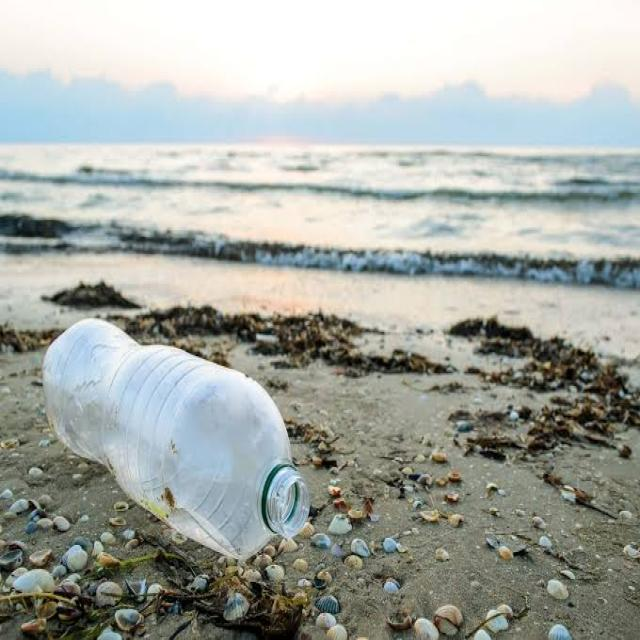plastic: (40, 293, 380, 640)
